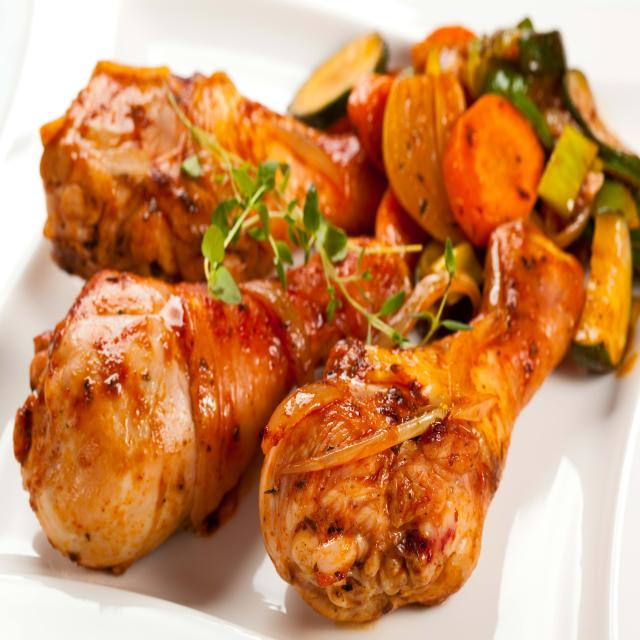Frango: (246, 217, 599, 632), (6, 232, 415, 580)
